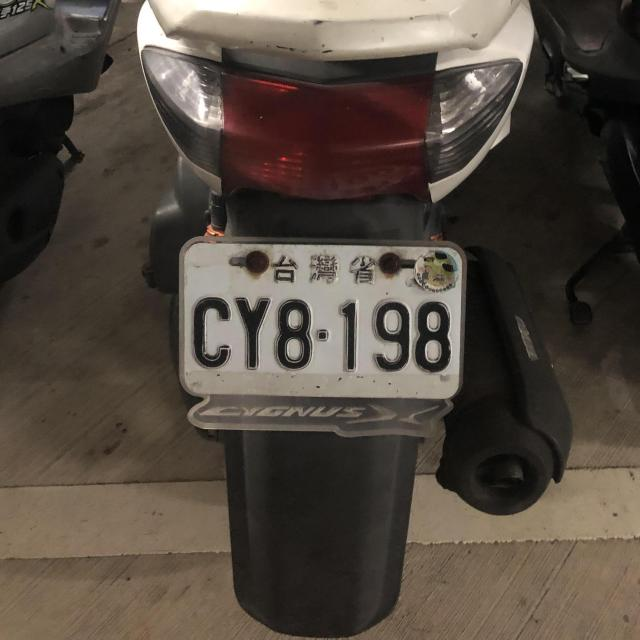W: (174, 229, 469, 403)
